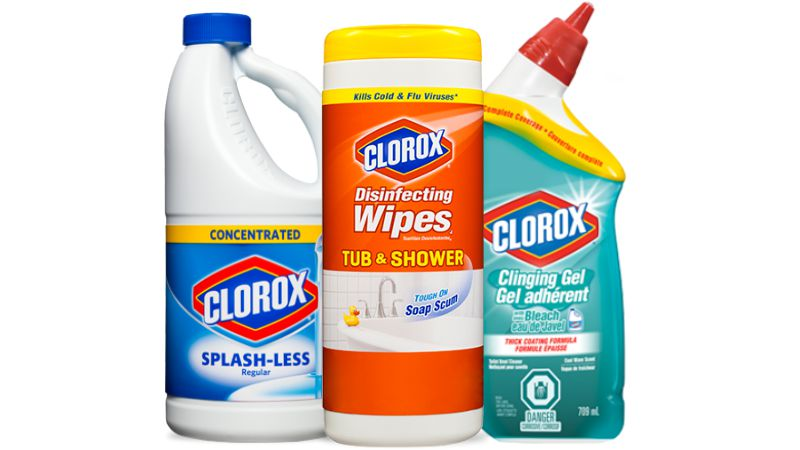Wipes: (314, 16, 488, 450)
